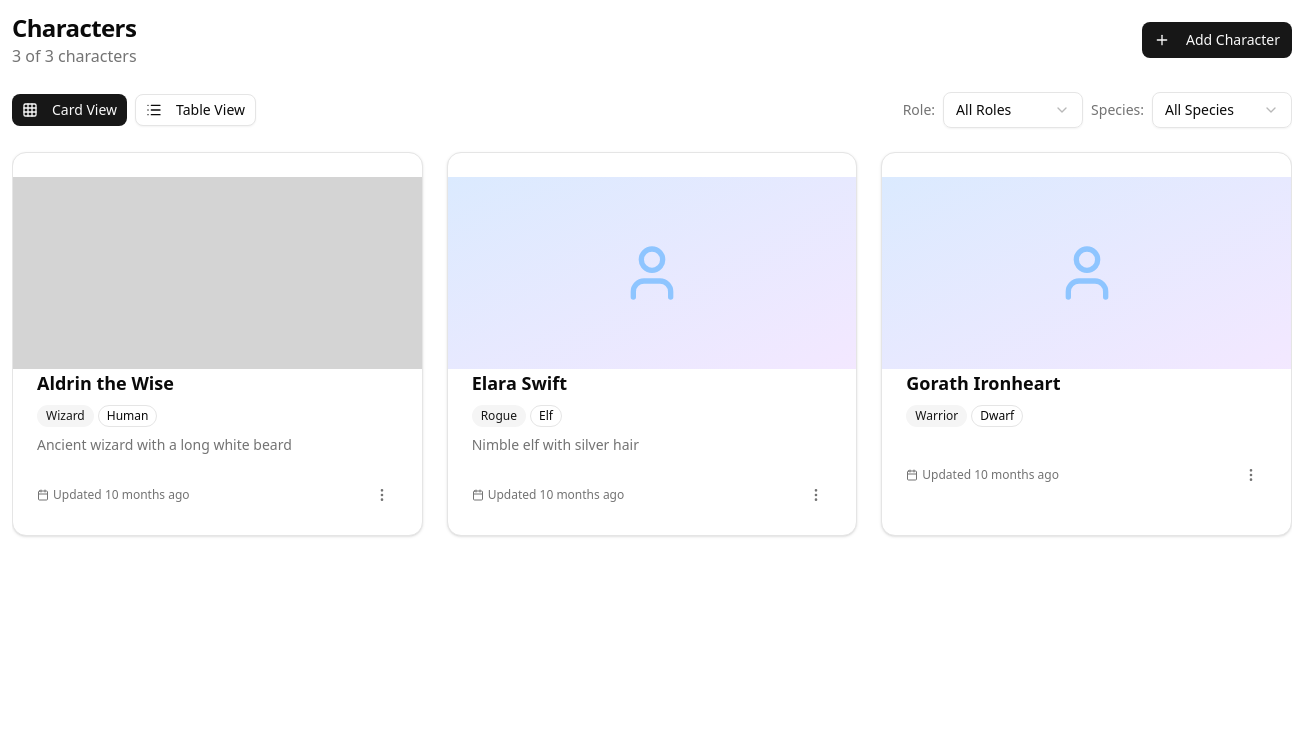
Test: CharactersList › View Modes › switches back to card view from table view
Click the button "Table View" at (196, 110), box [135,94,256,126]
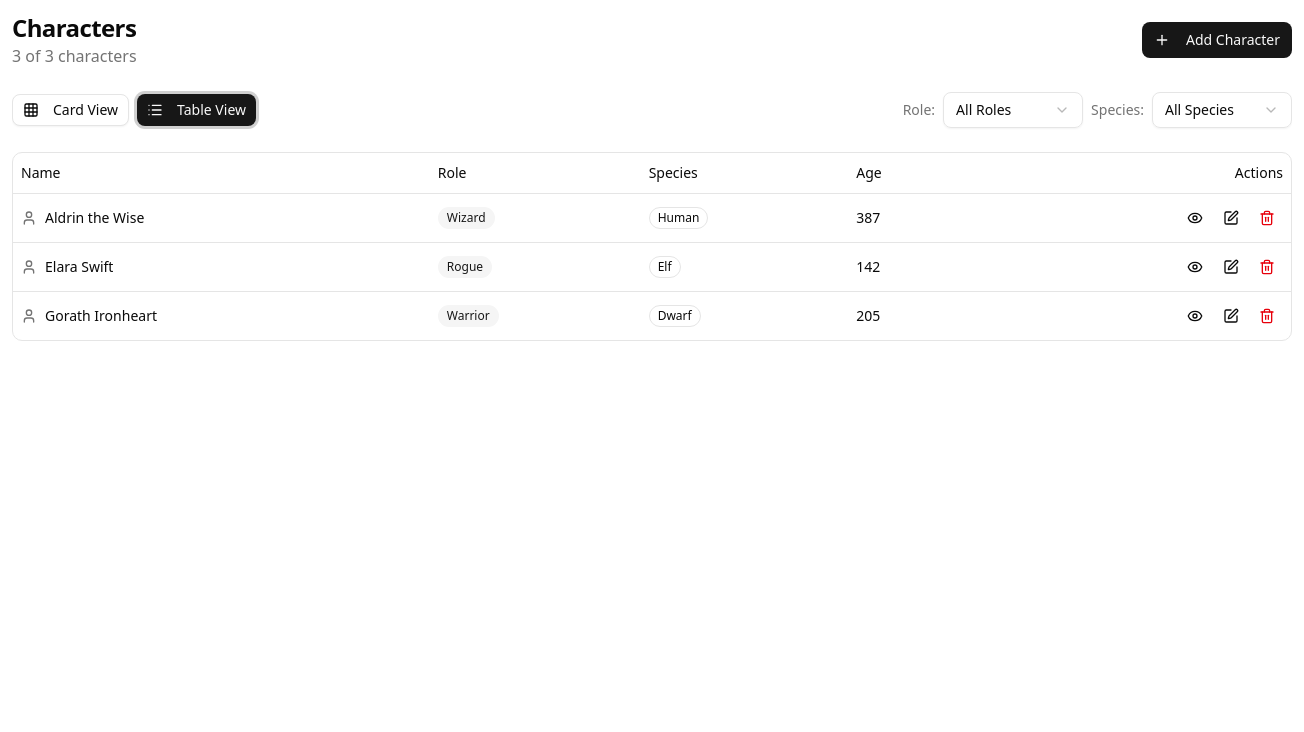
// Switch back to card view
Click the button "Card View" at (71, 110), box [12,94,129,126]
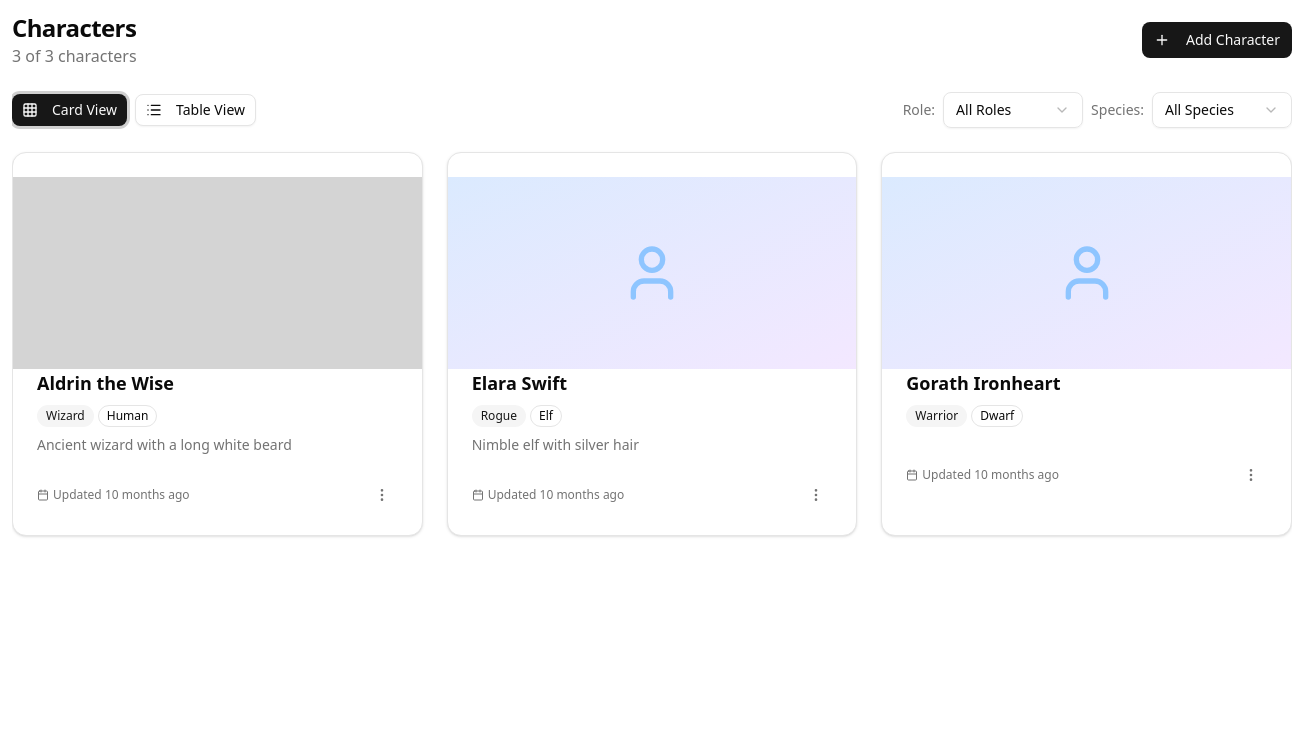
Now the column heading "Name" is gone
